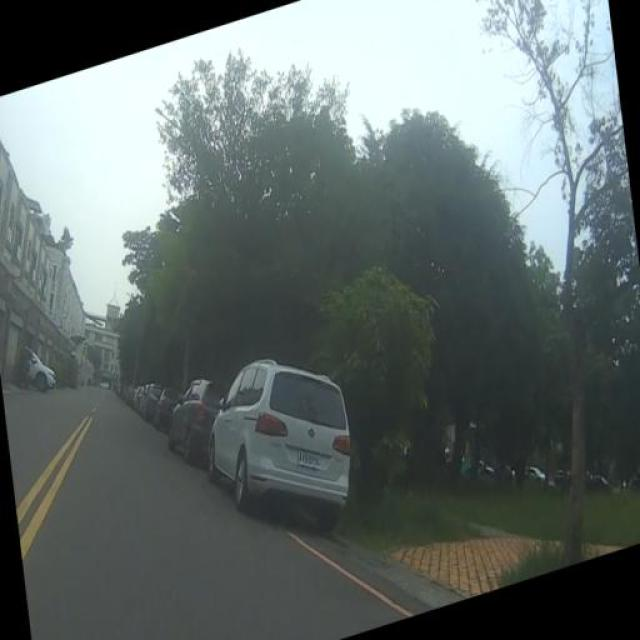Legalparking: (99, 320, 370, 540)
